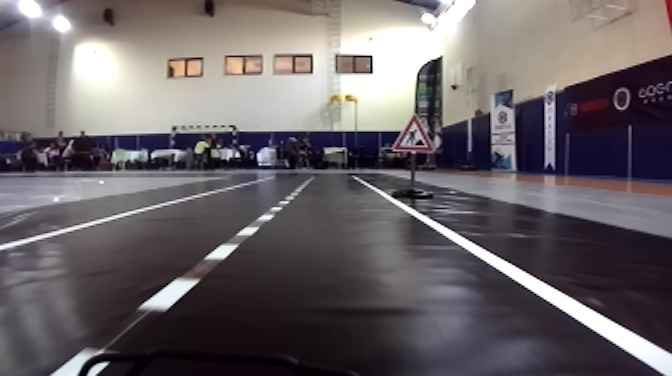yol_yapimi: (390, 116, 434, 157)
